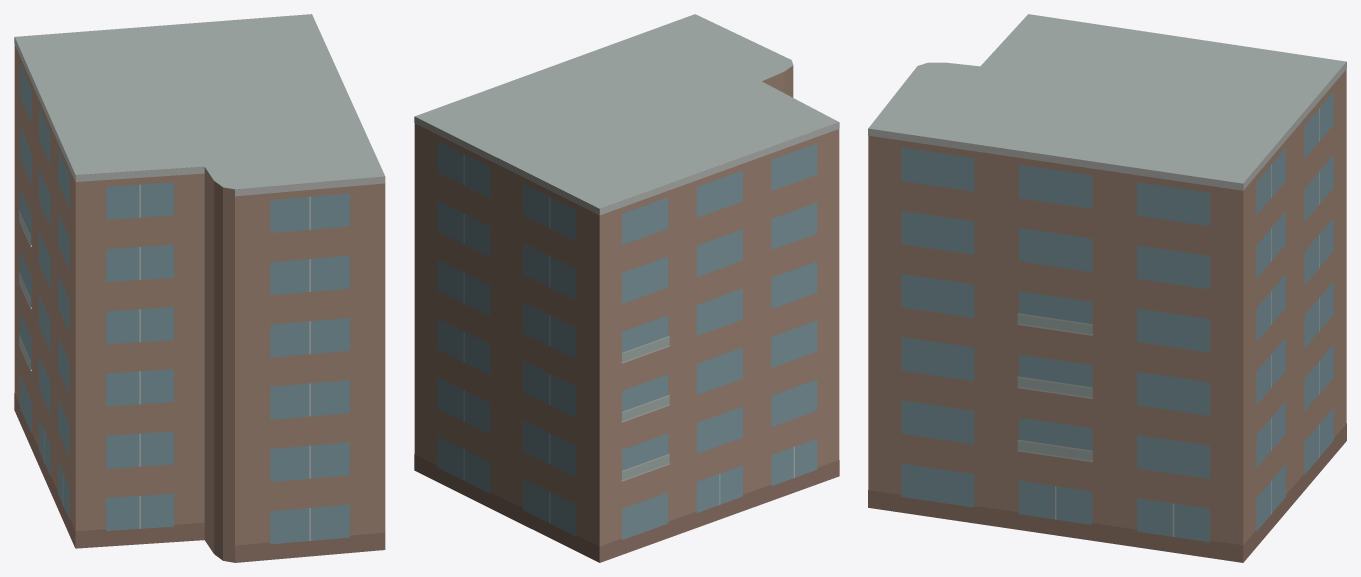
File: survey-upis-32849532.glb
3 views of the same model, side by side, from view 1: azimuth 30°, elevation 25°; view 2: azimuth 150°, elevation 25°; view 3: azimuth 270°, elevation 25° (orthographic). The views are drawn at different scales.
Parts seen in each view (by area): view 1: survey-upis-32849532.tmp; view 2: survey-upis-32849532.tmp; view 3: survey-upis-32849532.tmp.
Part boxes in pixels (left/top/right/bottom): survey-upis-32849532.tmp: left=14, top=14, right=385, bottom=562; survey-upis-32849532.tmp: left=414, top=14, right=839, bottom=562; survey-upis-32849532.tmp: left=868, top=14, right=1346, bottom=562.
Bounding box in the file's own units: 12.48 × 13 × 14.88.
